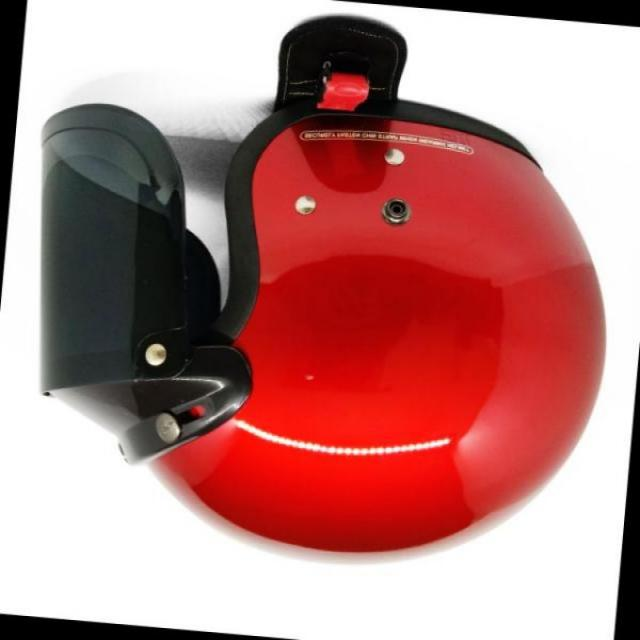Helmet: (39, 7, 614, 570)
